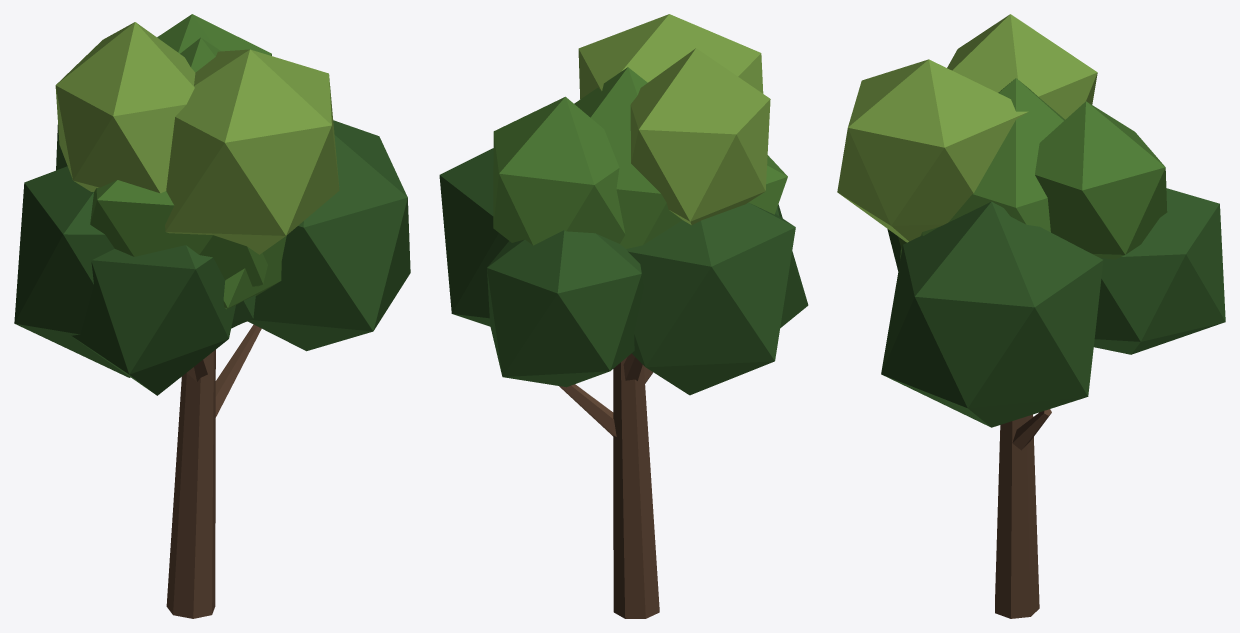
The model's file is UM_Buche.fbx.
The picture shows the model from 3 angles, left to right: view 1: azimuth 30°, elevation 25°; view 2: azimuth 150°, elevation 25°; view 3: azimuth 270°, elevation 25°; orthographic projection. The views are drawn at different scales.
Parts seen in each view (by area): view 1: UM_Buche; view 2: UM_Buche; view 3: UM_Buche.
Boxes of the visible parts, left/top/right/bottom form: UM_Buche: left=14, top=14, right=410, bottom=618; UM_Buche: left=439, top=14, right=808, bottom=618; UM_Buche: left=837, top=14, right=1225, bottom=618.
Bounding box in the file's own units: 6.37 × 10.25 × 6.35.
